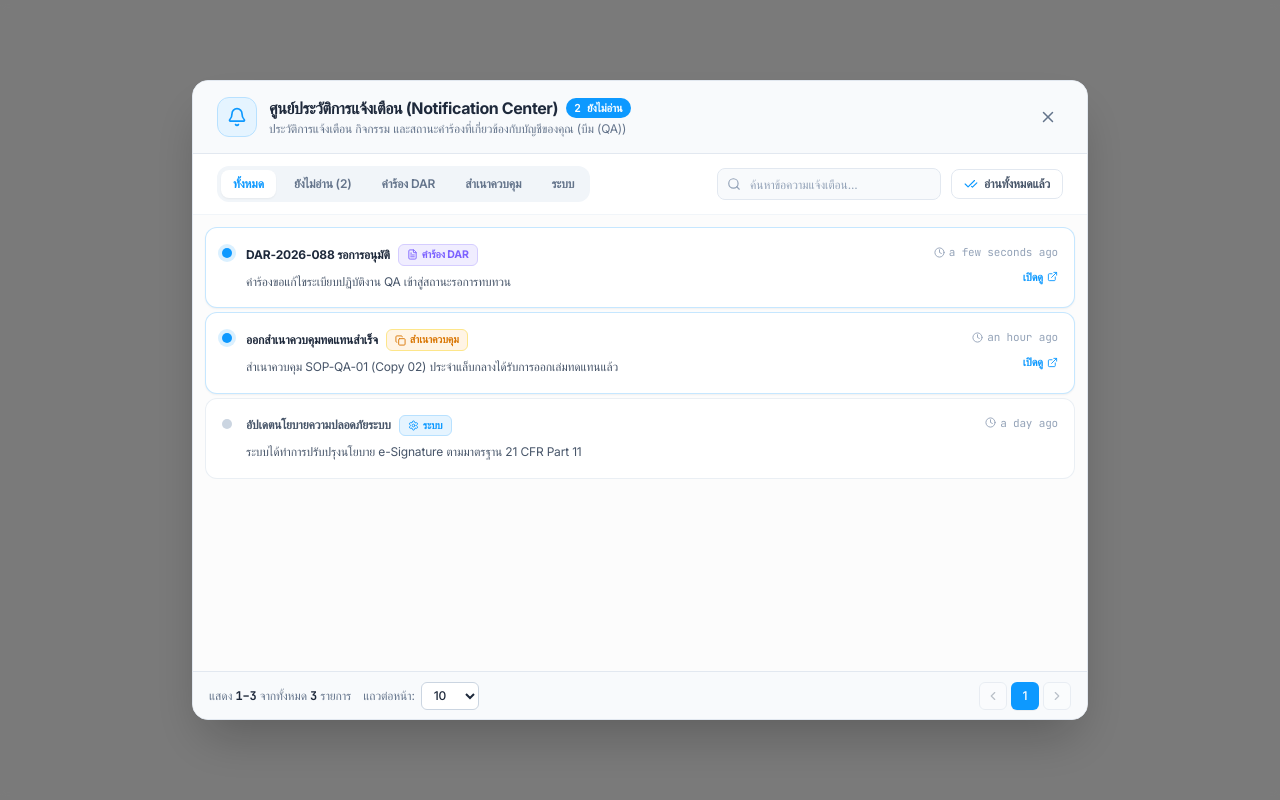
Test case: Enterprise Notification Architecture & Lifecycle Management Tests › 3. Search input query filters notifications across title and description
This screenshot has width=1280, height=800.
Type "21 CFR" into the field with placeholder "ค้นหาข้อความแจ้งเตือน..." at [829, 184], box [717,168,941,200]
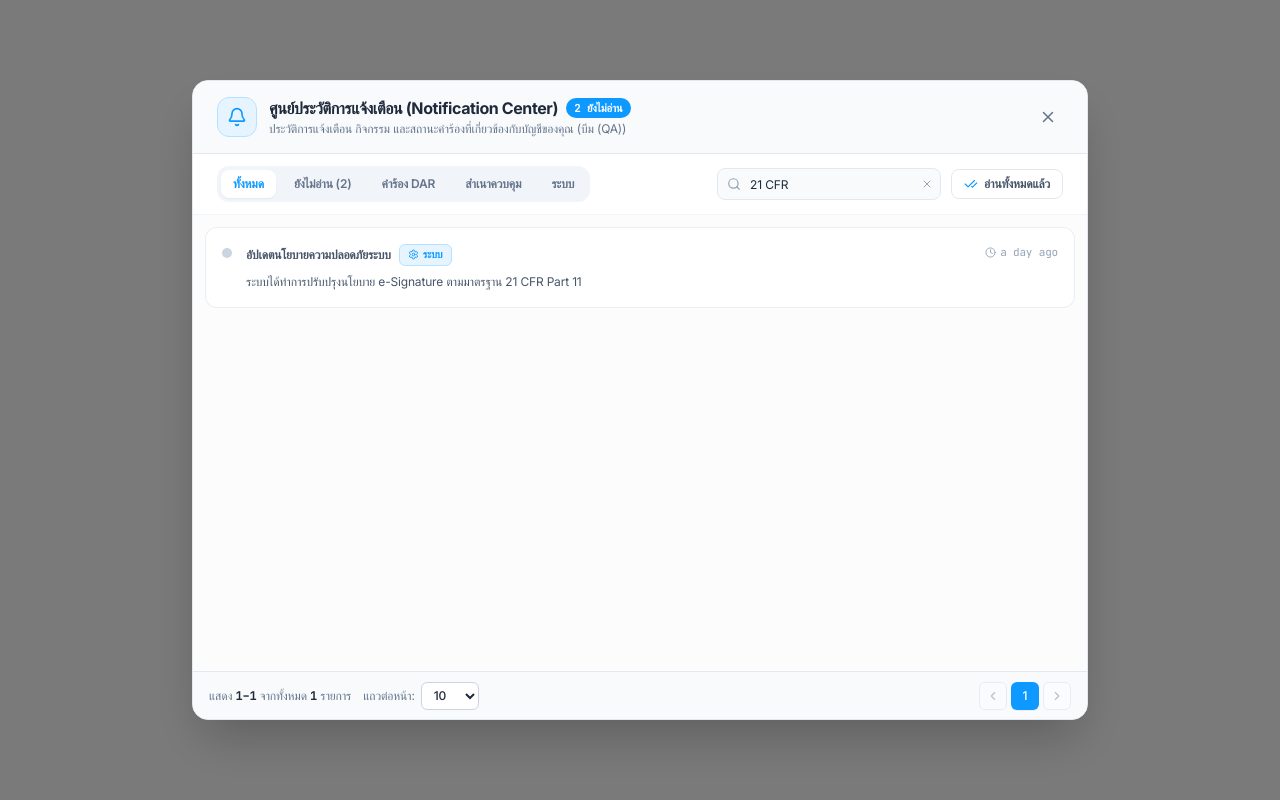
Expected: the text "อัปเดตนโยบายความปลอดภัยระบบ" is shown, [246,247,391,263]
Expected: the text "DAR-2026-088 รอการอนุมัติ" is gone
Expected: the text "ออกสำเนาควบคุมทดแทนสำเร็จ" is gone
